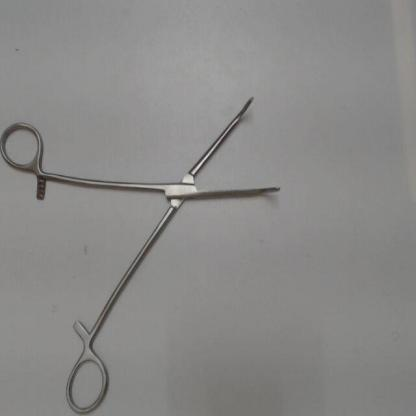Lahey Forceps: (1, 83, 288, 415)
